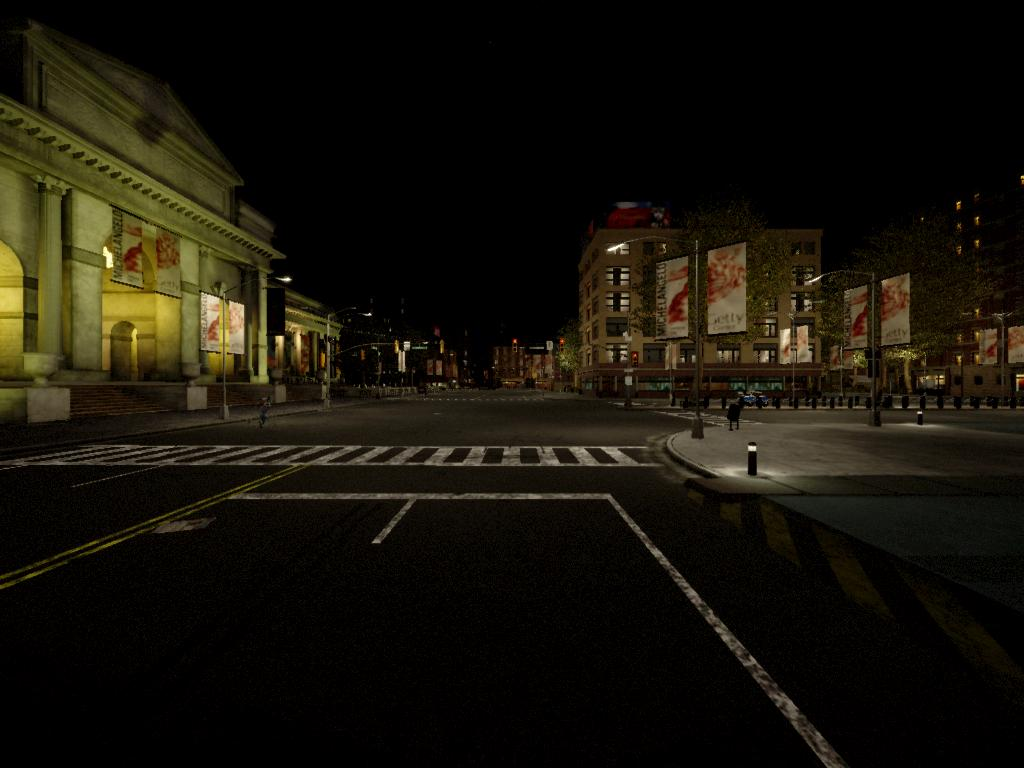traffic_light: (631, 352, 640, 369), (512, 339, 520, 355), (560, 339, 567, 353), (394, 341, 401, 354), (361, 349, 367, 362), (441, 342, 446, 354)
